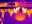Hotspot: (11, 7, 27, 17)
